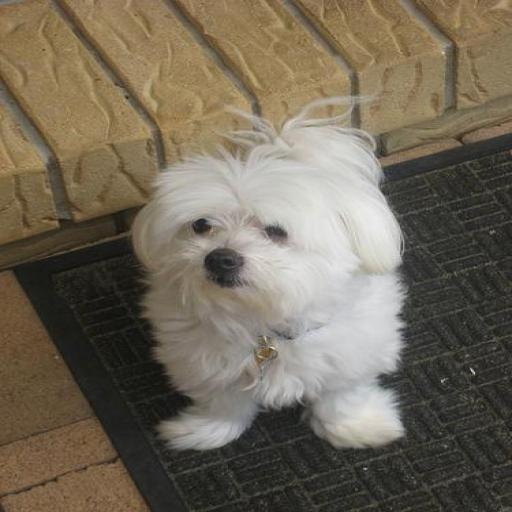dog_face: (143, 164, 344, 303)
